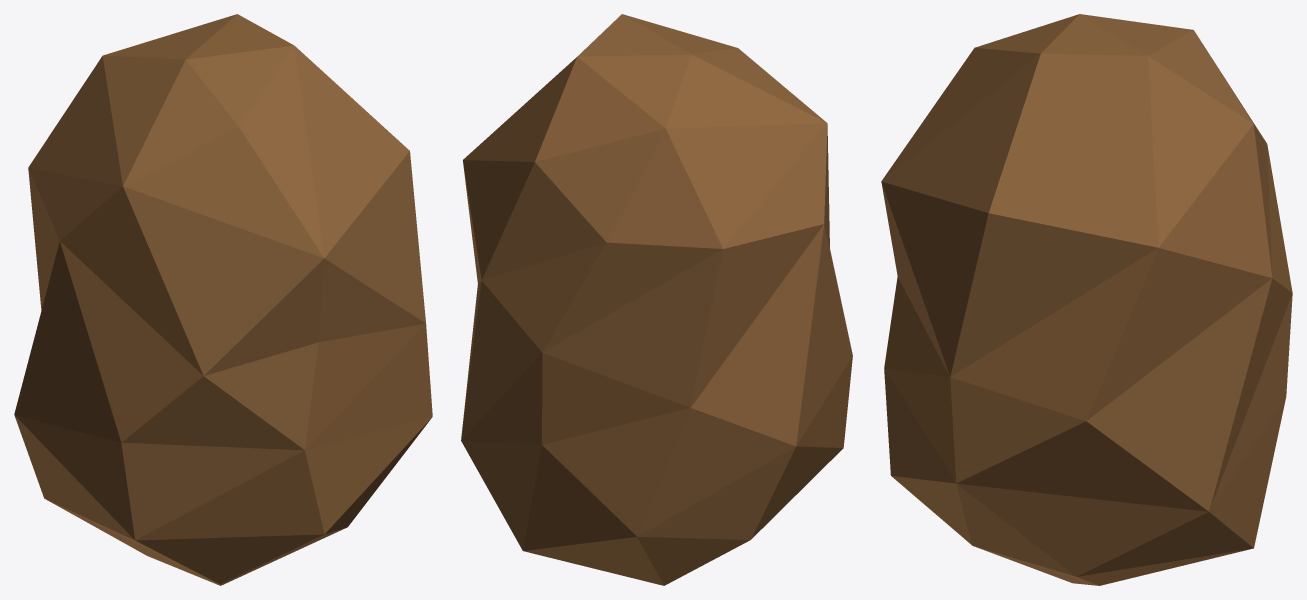
File: roche2.fbx
The picture shows the model from 3 angles, left to right: view 1: azimuth 30°, elevation 25°; view 2: azimuth 150°, elevation 25°; view 3: azimuth 270°, elevation 25°; orthographic projection. The views are drawn at different scales.
Parts seen in each view (by area): view 1: Roche; view 2: Roche; view 3: Roche.
Part boxes in pixels (x1,y1,x2,y2): Roche: (14,14,432,585); Roche: (461,14,852,585); Roche: (881,14,1292,585).
Bounding box in the file's own units: 421 × 609 × 406.
